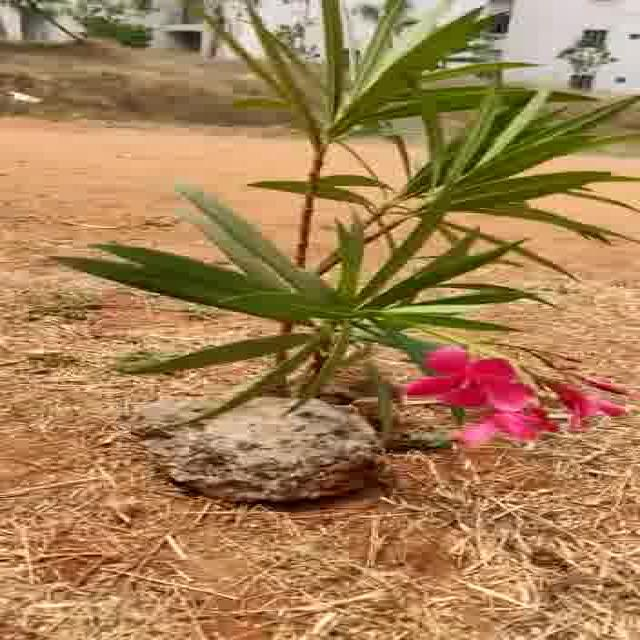OLEANDER: (56, 12, 610, 405)
